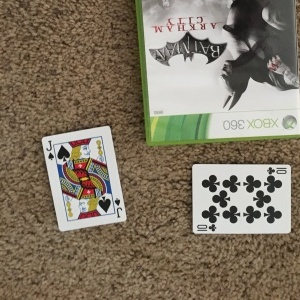card: (41, 125, 127, 230), (189, 161, 294, 236)
